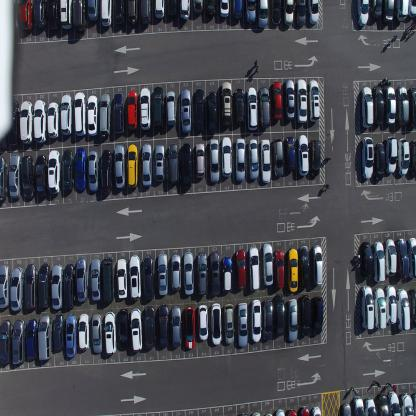car: (128, 254, 142, 302), (37, 262, 51, 310), (24, 262, 38, 310), (12, 317, 26, 365), (38, 314, 52, 361), (32, 98, 46, 144), (360, 285, 374, 330), (373, 286, 387, 330), (360, 85, 374, 129), (103, 311, 117, 355), (286, 247, 299, 294), (10, 265, 23, 312), (396, 287, 410, 330), (295, 78, 308, 124), (113, 144, 126, 190), (20, 99, 33, 145), (21, 154, 34, 200), (247, 246, 260, 291), (47, 149, 60, 194), (180, 141, 192, 189), (0, 318, 12, 366), (360, 136, 373, 180), (8, 154, 21, 198), (143, 305, 156, 349), (74, 91, 86, 138), (51, 263, 63, 310), (396, 237, 409, 280), (180, 88, 192, 134), (208, 137, 220, 183), (298, 244, 310, 290), (98, 92, 110, 138), (142, 255, 154, 301), (130, 307, 142, 353), (102, 256, 114, 302), (63, 263, 75, 309), (193, 88, 205, 133), (196, 251, 208, 296), (262, 242, 274, 287), (246, 86, 258, 131), (75, 146, 87, 191), (35, 153, 47, 198), (76, 257, 88, 302), (184, 305, 196, 349), (210, 302, 222, 346), (221, 79, 232, 127), (139, 86, 151, 130), (126, 89, 138, 133), (101, 147, 112, 195), (8, 100, 19, 148), (46, 100, 59, 140), (238, 302, 249, 349), (209, 249, 220, 296), (0, 263, 11, 310), (167, 142, 179, 185), (170, 305, 182, 348), (262, 298, 274, 341), (311, 243, 323, 286), (248, 138, 260, 181), (258, 86, 270, 129), (308, 79, 320, 122), (118, 308, 130, 351), (90, 258, 102, 301), (127, 143, 138, 189), (299, 294, 311, 336), (373, 240, 385, 282), (272, 136, 284, 178), (60, 94, 72, 136), (116, 258, 128, 300), (183, 251, 194, 296), (251, 298, 262, 343), (287, 297, 298, 342), (66, 313, 77, 358), (397, 138, 410, 176), (373, 85, 385, 126), (396, 86, 408, 127), (91, 313, 103, 354), (206, 90, 217, 134), (153, 86, 164, 130), (87, 93, 98, 137), (62, 148, 73, 192), (233, 87, 245, 127), (385, 284, 397, 324), (385, 135, 397, 175), (53, 312, 65, 352), (221, 135, 232, 178), (224, 302, 235, 345), (274, 293, 285, 336), (88, 149, 99, 192), (157, 253, 168, 296), (154, 144, 166, 183), (72, 0, 87, 31), (18, 0, 33, 31), (235, 248, 246, 290), (297, 134, 308, 176), (113, 92, 124, 134), (261, 137, 271, 183), (170, 253, 182, 291), (284, 134, 296, 172), (360, 241, 373, 276), (26, 318, 37, 359), (235, 137, 245, 182), (142, 142, 152, 187), (312, 296, 323, 336), (385, 237, 396, 277), (385, 84, 396, 124), (158, 304, 168, 348), (6, 0, 19, 33), (284, 78, 294, 120), (166, 89, 177, 127), (374, 142, 385, 180), (78, 312, 89, 350), (274, 248, 284, 289), (310, 137, 320, 178), (198, 304, 209, 341), (272, 81, 282, 121), (47, 0, 60, 30), (195, 141, 205, 179), (222, 255, 232, 293), (407, 236, 416, 278), (256, 0, 269, 29), (0, 156, 8, 203), (0, 104, 8, 150), (100, 0, 113, 28), (34, 0, 47, 28), (60, 0, 72, 30), (307, 0, 320, 26), (139, 0, 152, 26), (113, 0, 126, 26), (408, 86, 416, 128), (394, 0, 409, 22), (126, 0, 139, 25), (400, 392, 414, 415), (408, 288, 416, 328), (356, 0, 368, 26), (388, 390, 400, 415), (283, 0, 294, 27), (270, 0, 281, 27), (377, 392, 389, 416), (245, 0, 256, 25), (409, 138, 416, 177), (369, 0, 382, 21), (295, 0, 305, 27), (231, 0, 243, 22), (87, 0, 99, 22), (383, 0, 394, 22), (352, 395, 364, 415), (364, 396, 376, 415), (166, 0, 178, 19), (179, 0, 190, 20), (218, 0, 230, 18), (154, 0, 164, 19), (192, 0, 204, 15), (205, 0, 216, 16), (408, 0, 416, 17), (341, 403, 352, 415), (412, 391, 416, 416), (311, 405, 321, 415), (299, 405, 309, 415), (286, 408, 298, 416), (275, 408, 285, 416), (251, 410, 261, 415), (238, 410, 248, 415), (264, 410, 273, 415)
